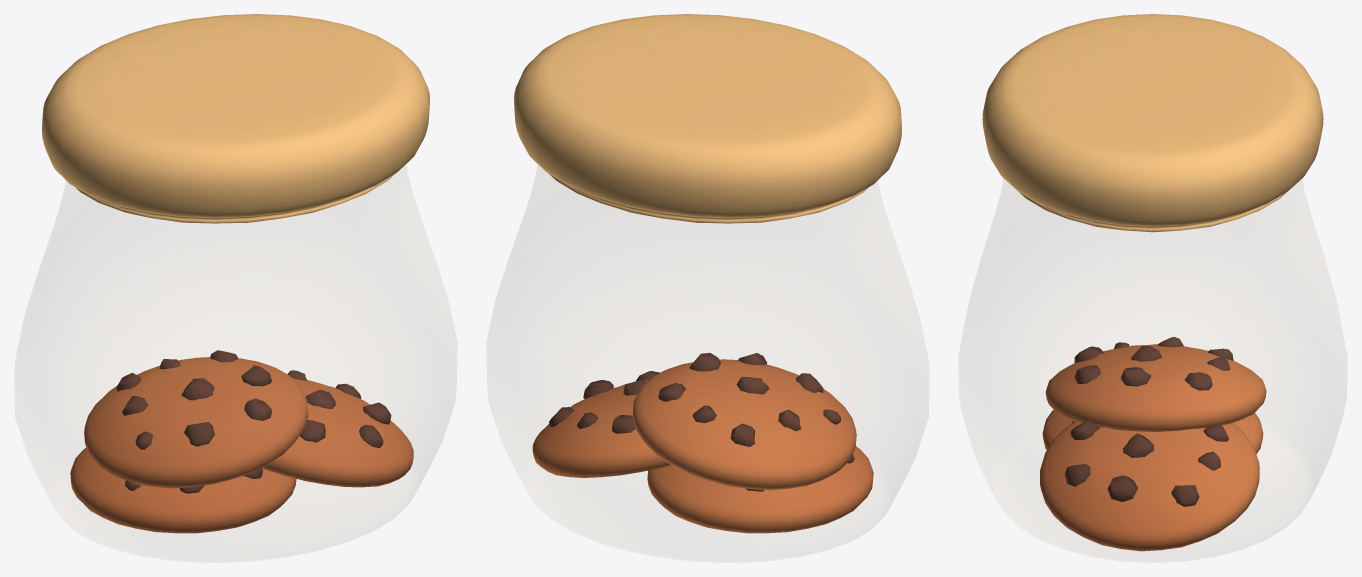
File: cookie jar test.fbx
3 views of the same model, side by side, from view 1: azimuth 30°, elevation 25°; view 2: azimuth 150°, elevation 25°; view 3: azimuth 270°, elevation 25° (orthographic). The views are drawn at different scales.
Parts seen in each view (by area): view 1: Cylinder.001, Cylinder.002, Circle.002, Circle.001, Circle; view 2: Cylinder.001, Cylinder.002, Circle.002, Circle, Circle.001; view 3: Cylinder.001, Cylinder.002, Circle.001, Circle.002, Circle.
Boxes of the visible parts, <box> form: Cylinder.001: <box>15,165,456,562</box>; Cylinder.002: <box>42,14,429,223</box>; Circle.002: <box>84,350,308,488</box>; Circle.001: <box>261,370,413,487</box>; Circle: <box>70,448,296,533</box>; Cylinder.001: <box>487,165,928,562</box>; Cylinder.002: <box>514,14,901,223</box>; Circle.002: <box>632,352,856,490</box>; Circle: <box>647,446,873,533</box>; Circle.001: <box>532,371,670,477</box>; Cylinder.001: <box>959,179,1346,562</box>; Cylinder.002: <box>982,14,1323,232</box>; Circle.001: <box>1040,420,1259,551</box>; Circle.002: <box>1045,337,1266,431</box>; Circle: <box>1042,410,1263,453</box>.
Bounding box in the file's own units: 86.57 × 86.85 × 75.47.
